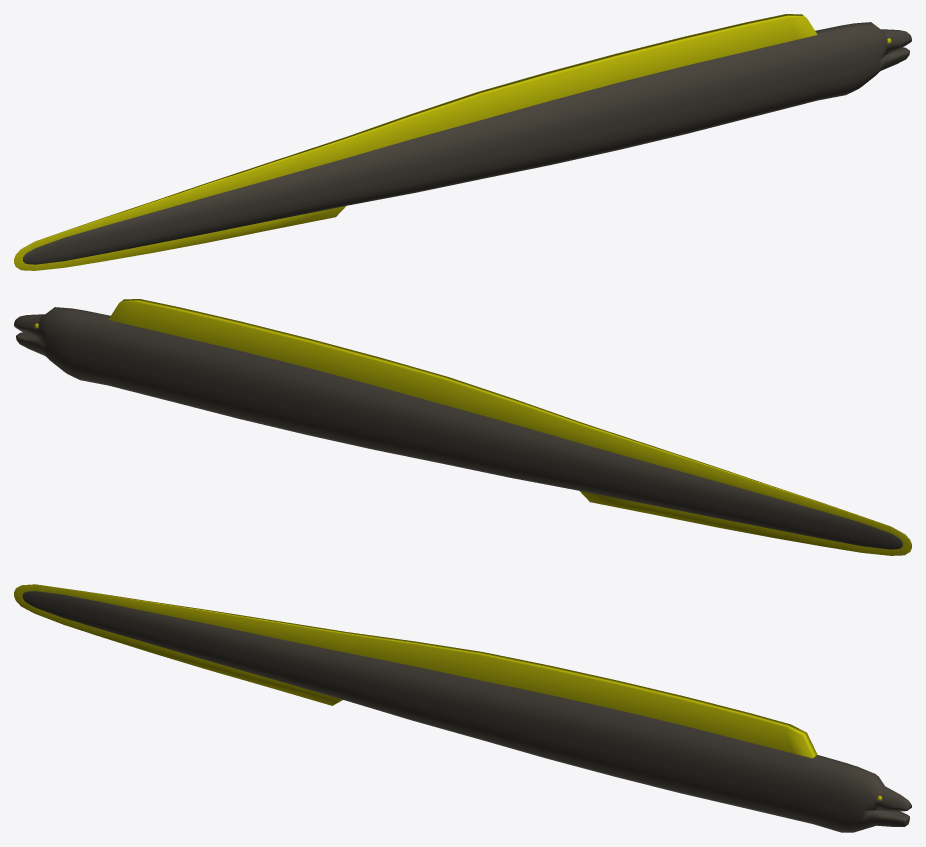
Rendered from Eel_Background.fbx.
3 views of the same model, one above another, from view 1: azimuth 30°, elevation 25°; view 2: azimuth 150°, elevation 25°; view 3: azimuth 330°, elevation 25° (orthographic).
Parts seen in each view (by area): view 1: SM_Eel; view 2: SM_Eel; view 3: SM_Eel.
Part boxes in pixels (x1,y1,x2,y2): SM_Eel: (14, 14, 911, 270); SM_Eel: (14, 299, 911, 555); SM_Eel: (14, 584, 911, 832).
Size of the model in its own units: 37.86 by 3.76 by 1.5.
